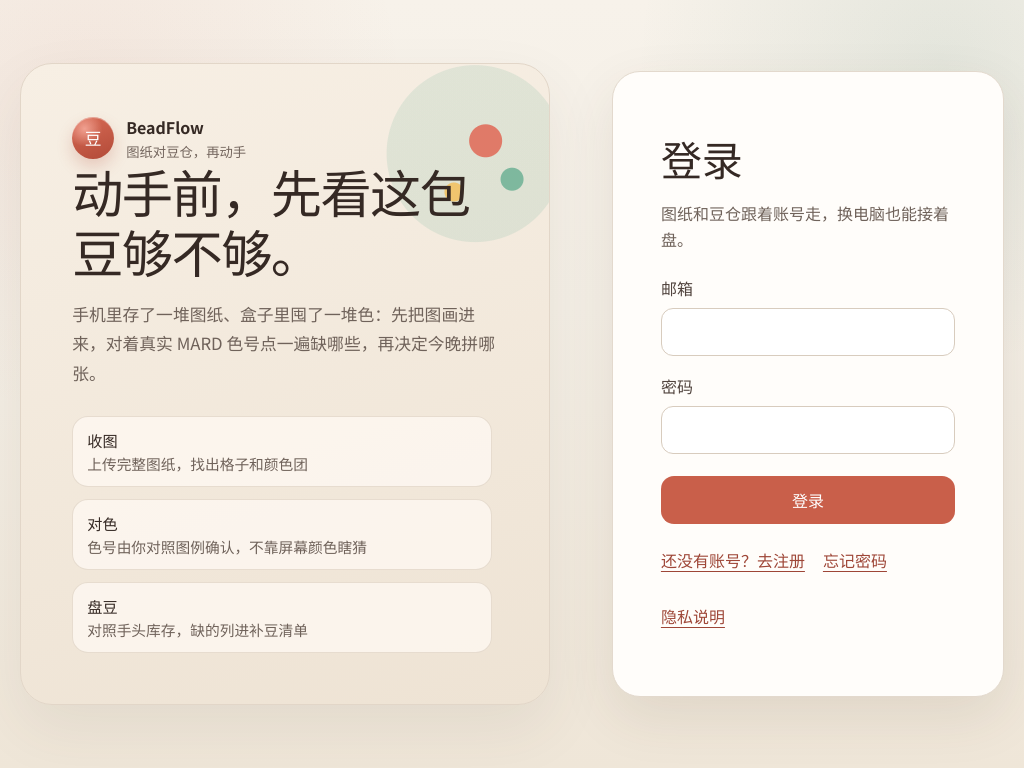
Test: authenticated application shell › does not navigate or expose provider details after invalid credentials
expect the heading "登录" is shown: met, box [661,128,743,188]
Type "wrong@example.com" into the field labelled "邮箱".
click(808, 332); type("wrong@example.com")  # box [661,308,955,356]
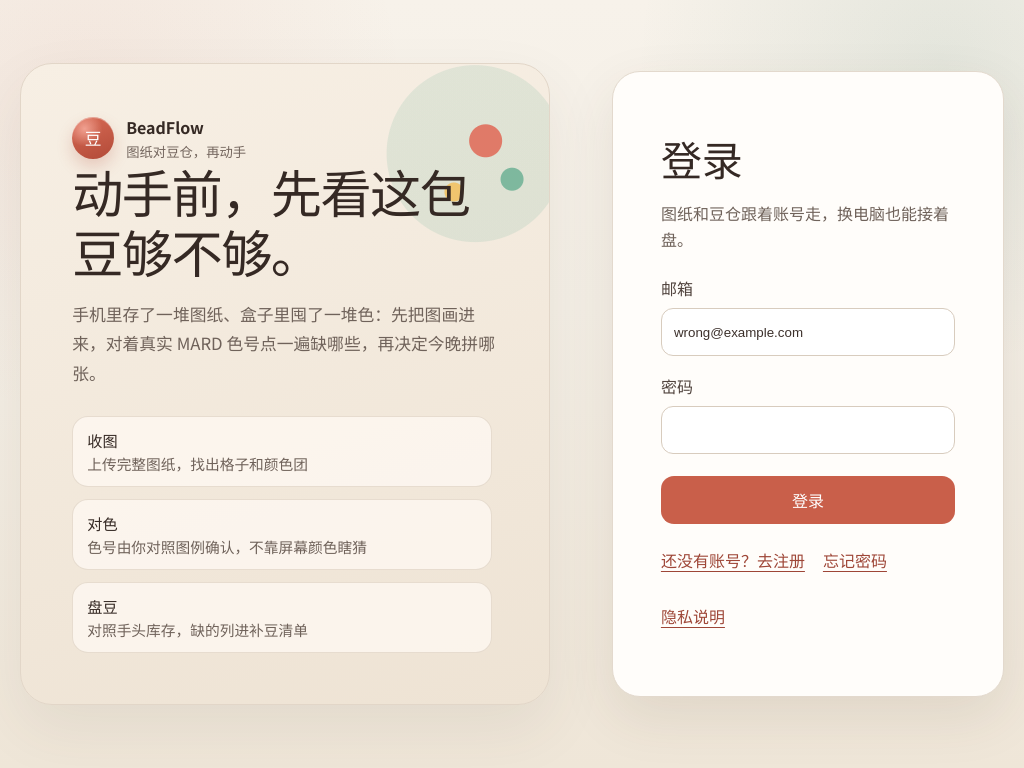
Type "wrong-password" into the password field labelled "密码".
click(808, 430); type("wrong-password")  # box [661,406,955,454]
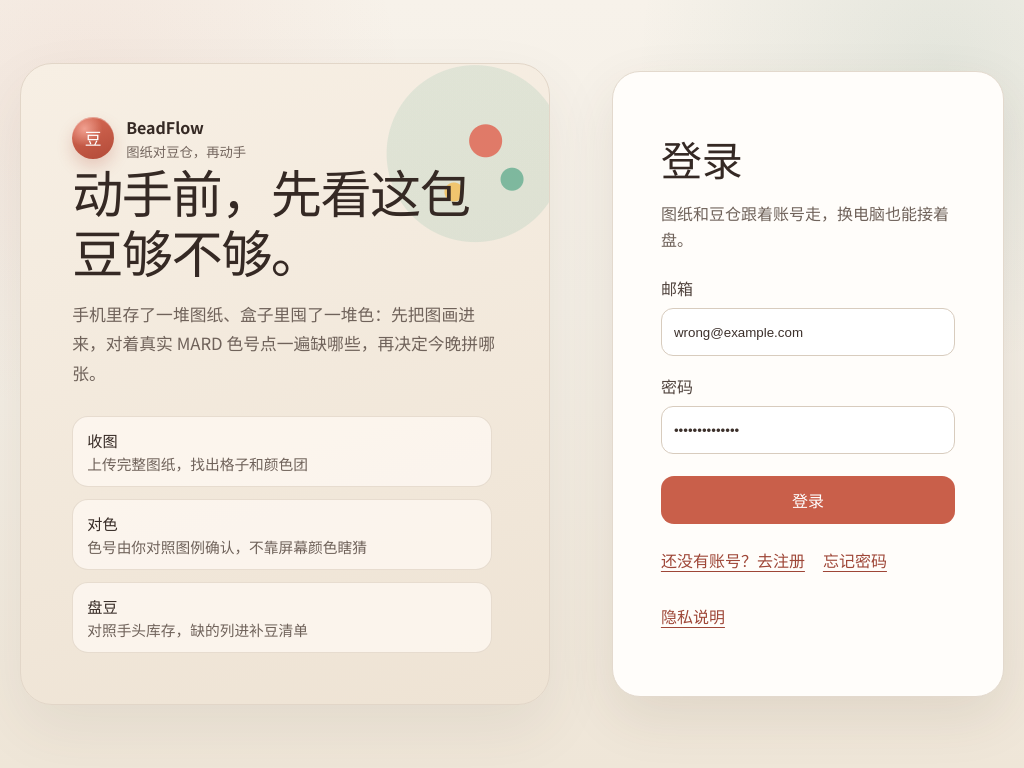
Click the button "登录".
click(808, 500)  # box [661,476,955,524]
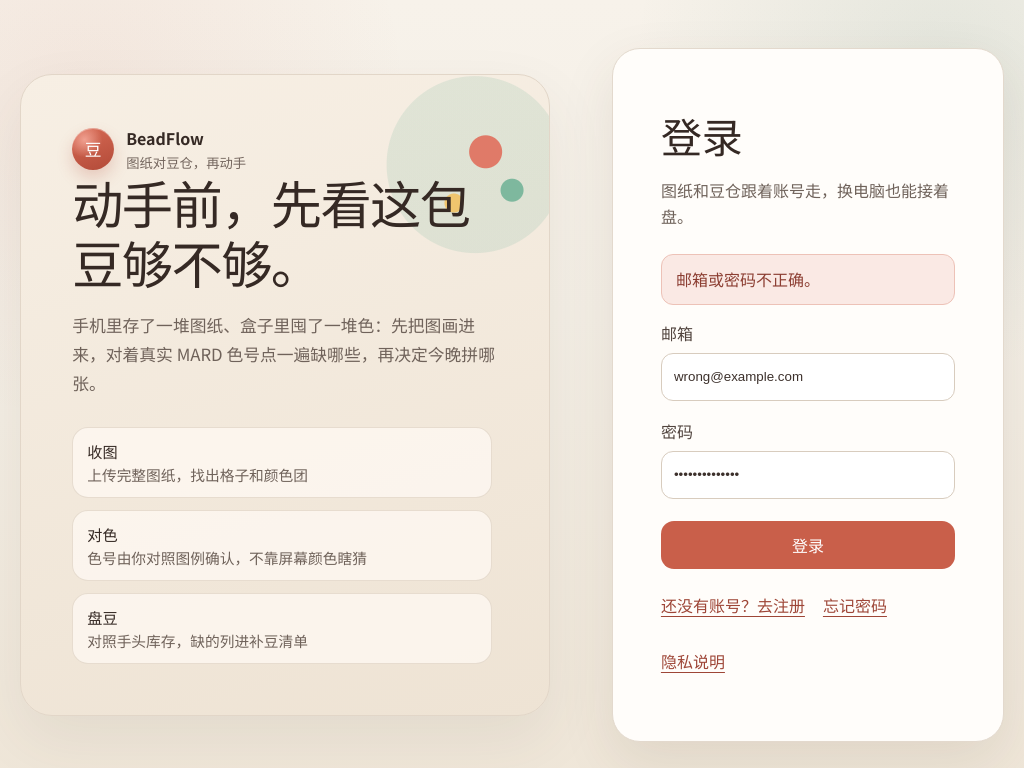
expect the heading "登录" is shown: met, box [661,105,743,165]
expect the message shows "邮箱或密码不正确": met, box [676,267,820,291]
